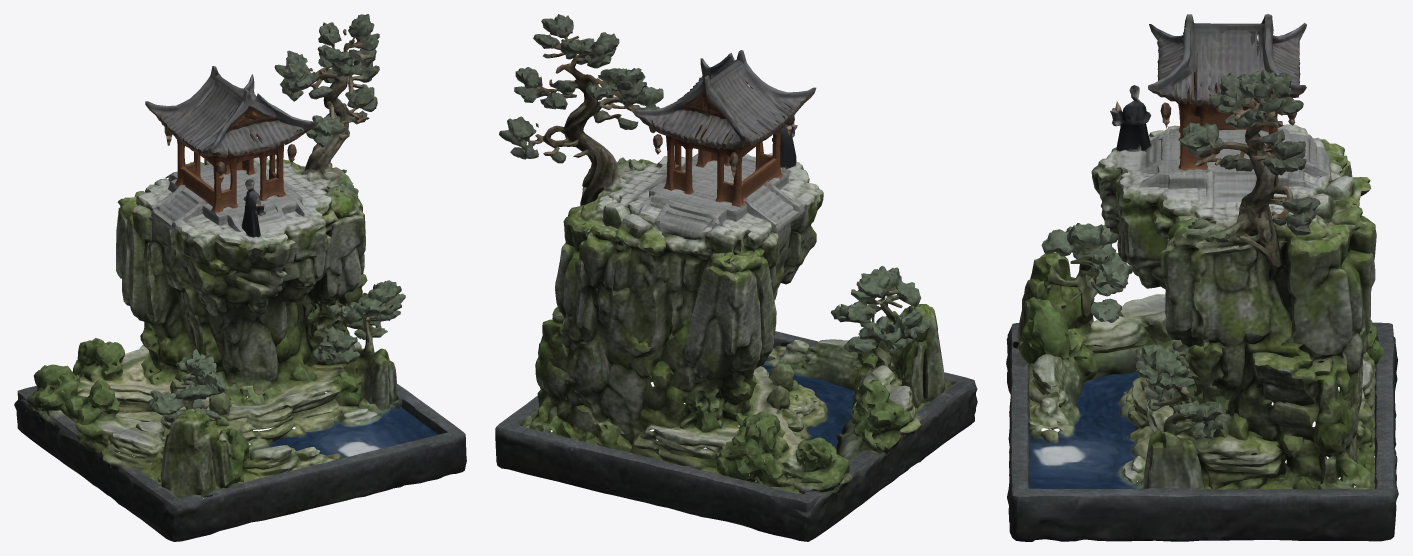
File: cliff_poet_full.glb
3 renders of one model, left to right at view 1: azimuth 30°, elevation 25°; view 2: azimuth 150°, elevation 25°; view 3: azimuth 270°, elevation 25°, orthographic. The views are drawn at different scales.
Visible parts, largest first — view 1: geometry_0; view 2: geometry_0; view 3: geometry_0.
Boxes of the visible parts, box(x1,y1,x2,y2) form: geometry_0: box(14, 14, 466, 541); geometry_0: box(495, 14, 977, 541); geometry_0: box(1006, 14, 1398, 541).
Bounding box in the file's own units: 0.7028 × 0.75 × 0.5813.
1 material, 1 textured.
